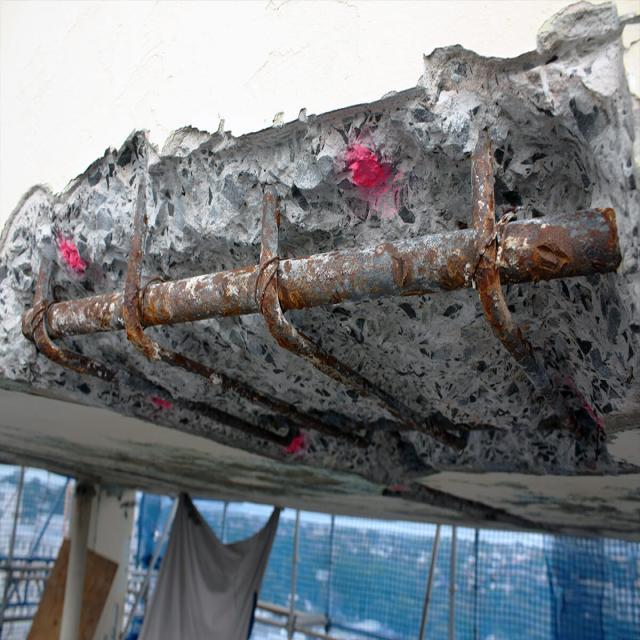Spalling: (5, 0, 639, 485)
corrosion: (20, 132, 616, 458)
